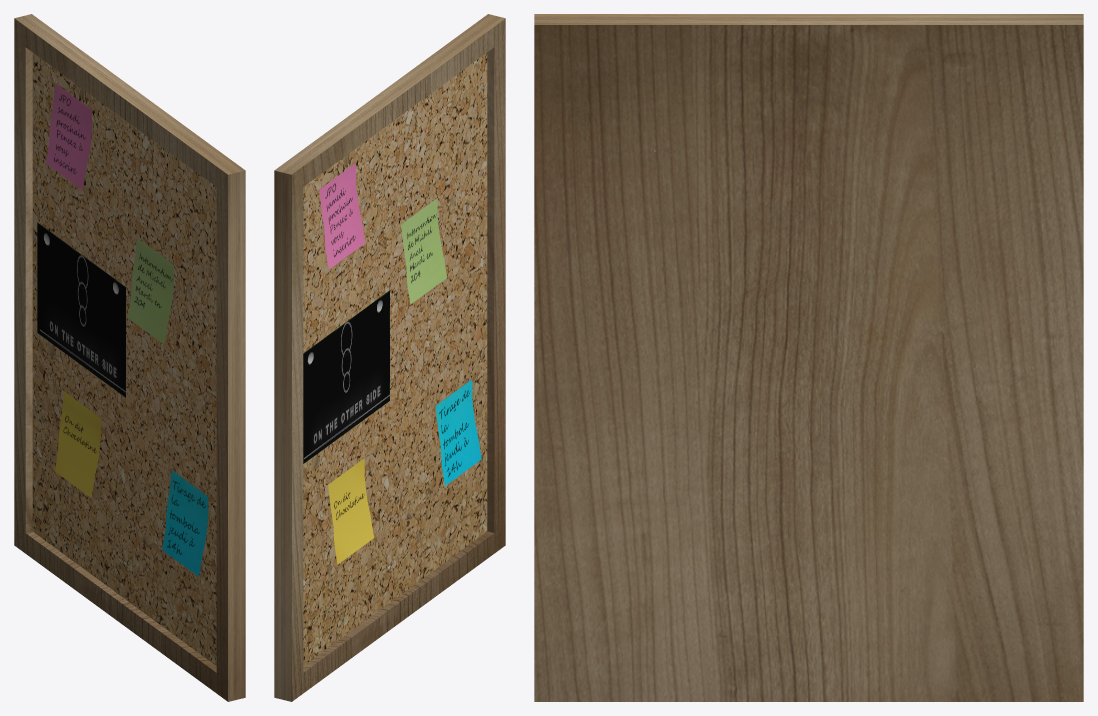
File: tableau de liege.FBX
3 renders of one model, left to right at view 1: azimuth 30°, elevation 25°; view 2: azimuth 150°, elevation 25°; view 3: azimuth 270°, elevation 25°, orthographic. The views are drawn at different scales.
Parts seen in each view (by area): view 1: Plan001; view 2: Plan001; view 3: Plan001.
Boxes of the visible parts, x1,y1,x2,y2 form: Plan001: (14, 14, 245, 701); Plan001: (274, 14, 505, 701); Plan001: (534, 14, 1083, 701).
Size of the model in its own units: 2.1 by 52.38 by 38.53.
